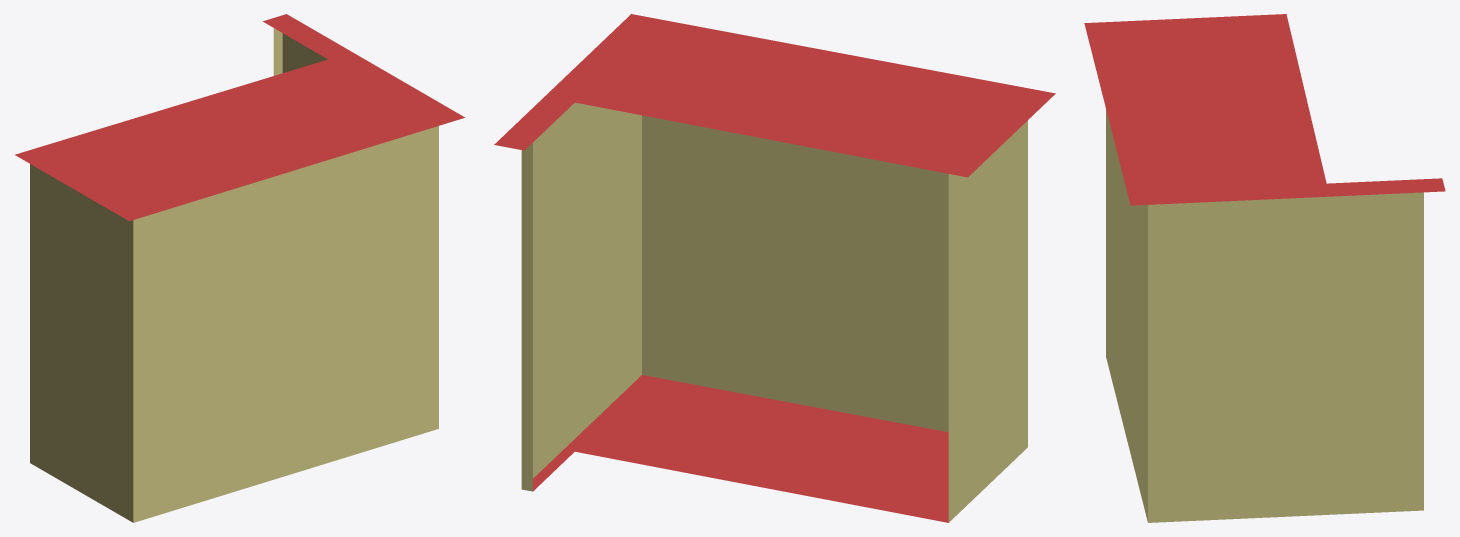
3 views of the same model, side by side, from view 1: azimuth 30°, elevation 25°; view 2: azimuth 150°, elevation 25°; view 3: azimuth 270°, elevation 25° (orthographic). The views are drawn at different scales.
Size of the model in its own units: 5.75 by 4.58 by 4.57.
